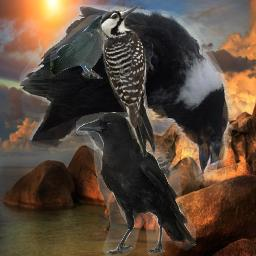Crow: (19, 5, 233, 202), (76, 112, 197, 256), (50, 15, 120, 79)
Woodpecker: (100, 6, 158, 157)
